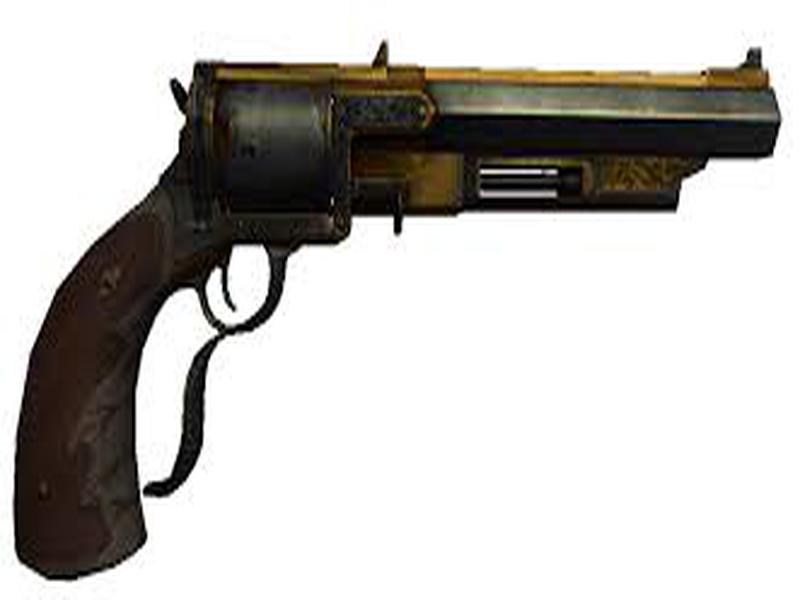gun: (9, 42, 800, 579)
